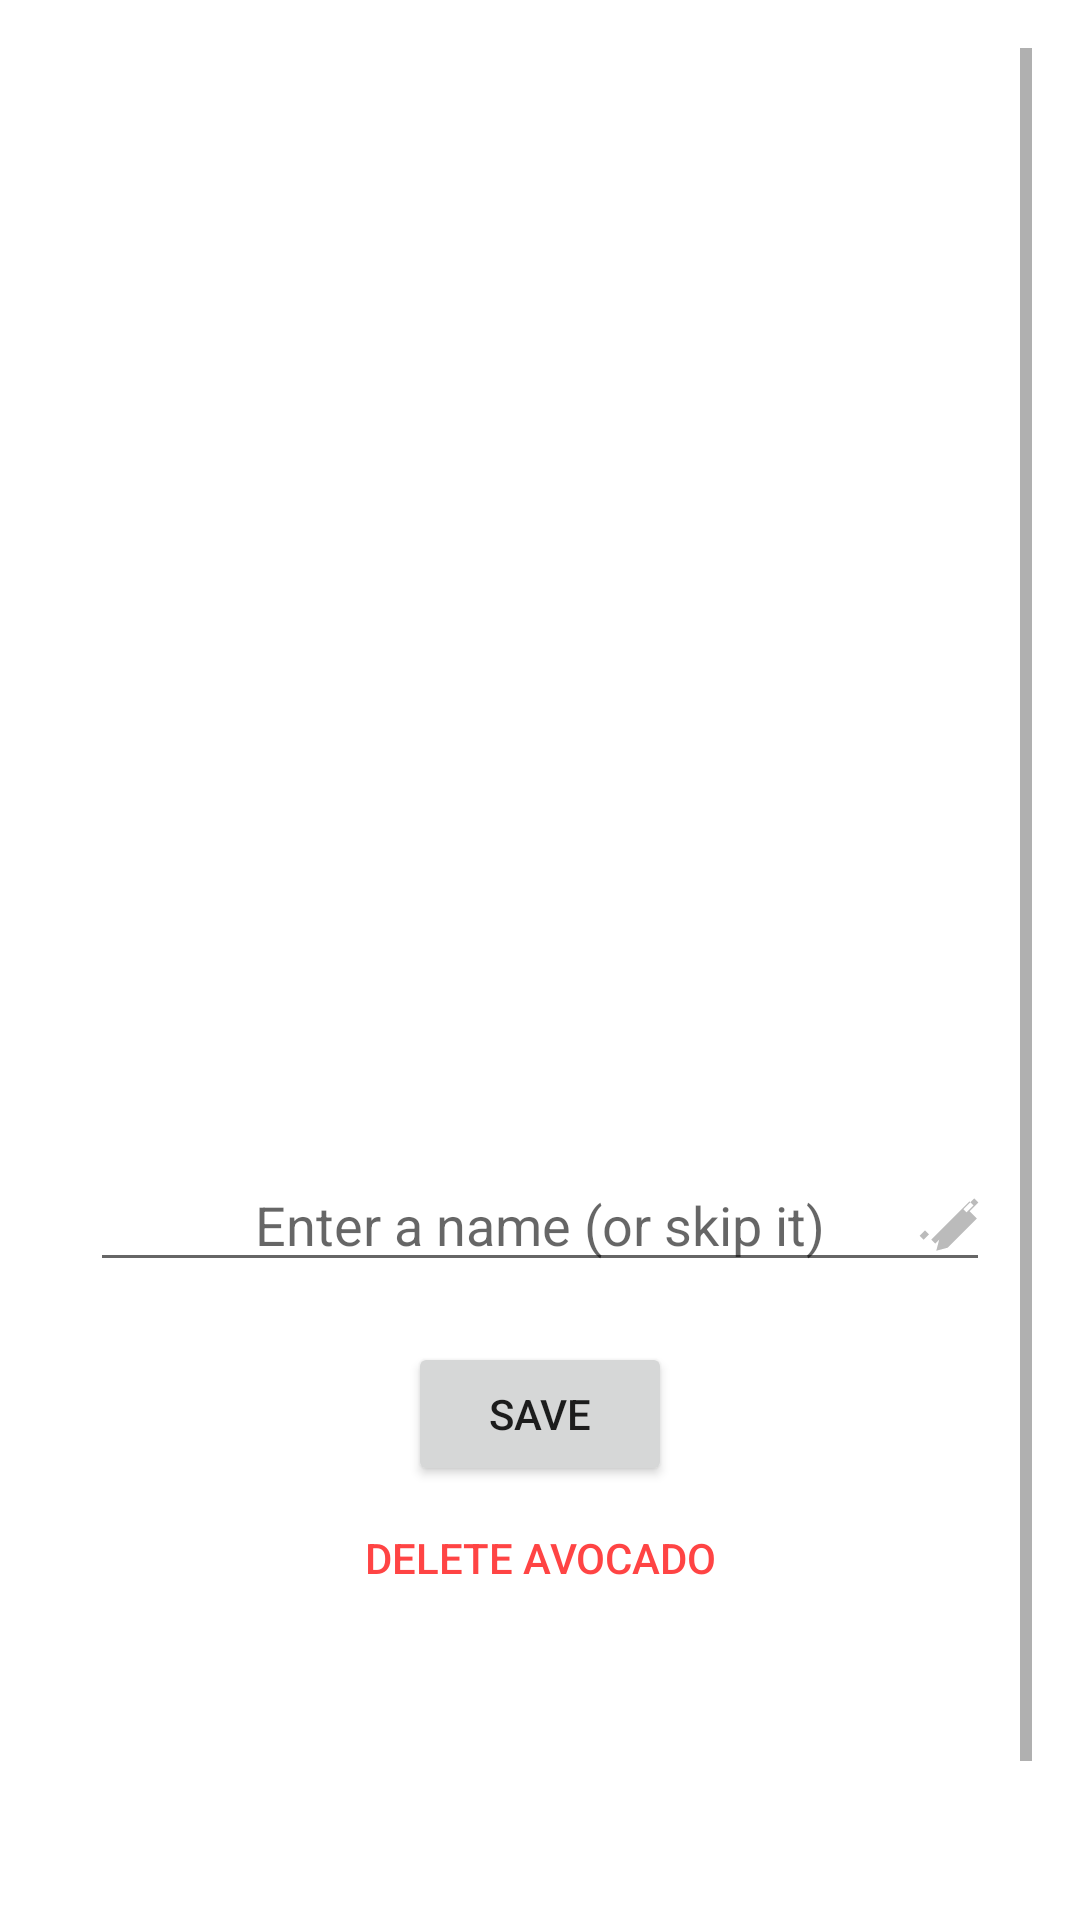

Where icons sit on this 1080px×1920px app screen, as detection(x1, y1, x2, y2):
Pencil Icon: detection(920, 1199, 978, 1251)
